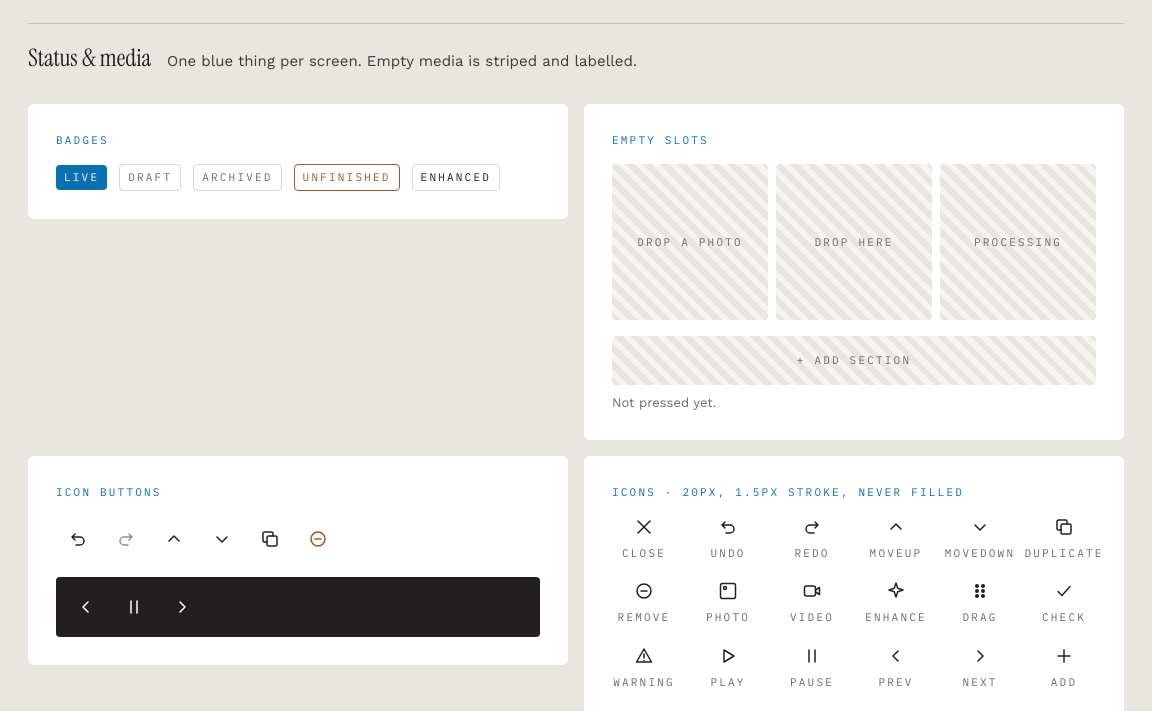
Test: KitPage › counts presses on the add-section placeholder
(page scrolled)
Expected: the text "Not pressed yet." is shown, [612,395,716,410]
What coordinates should you click on to do the following:
click the button "+ add section"
I would click on:
 (854, 361)
Its box is [612,336,1096,385].
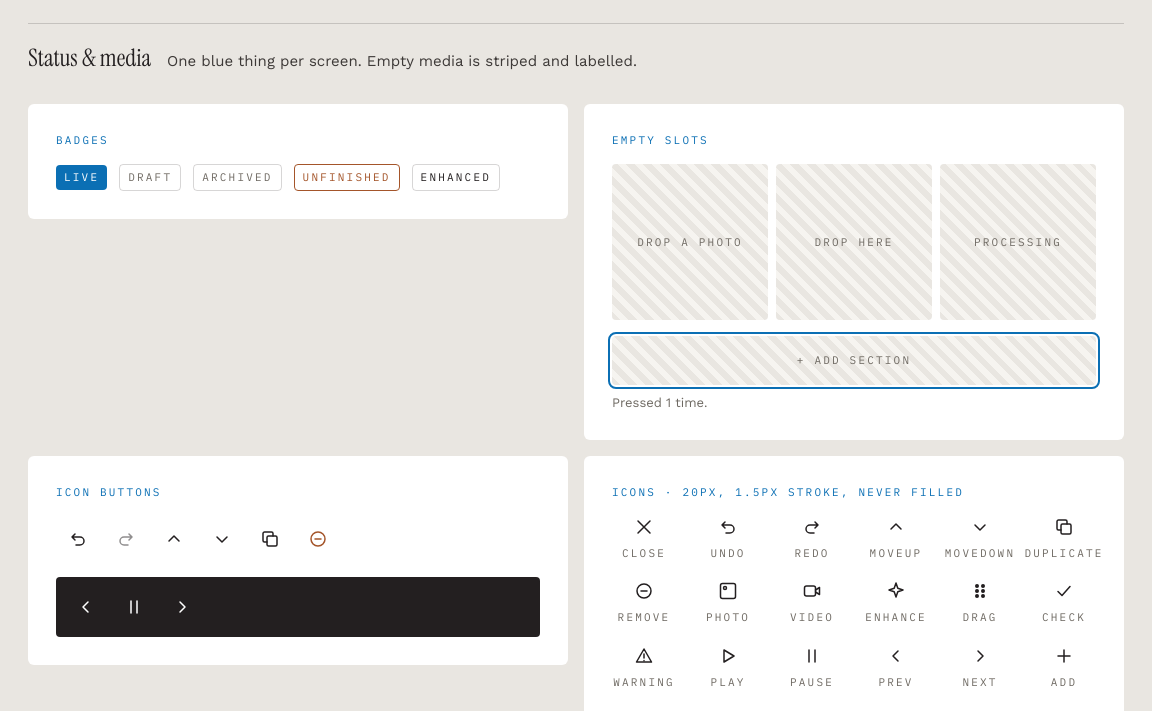
Expected: the text "Pressed 1 time." is shown, [612,395,708,410]
What coordinates should you click on to do the following:
click the button "+ add section"
I would click on:
 (854, 361)
Its box is [612,336,1096,385].
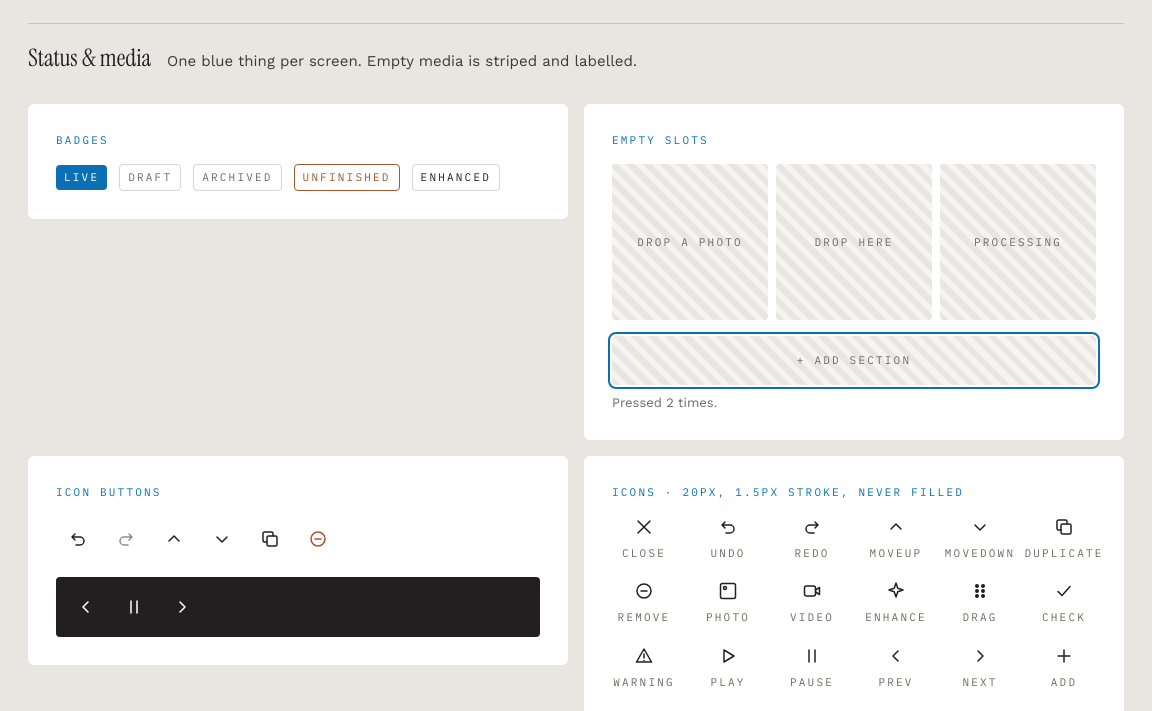
Expected: the text "Pressed 2 times." is shown, [612,395,717,410]
